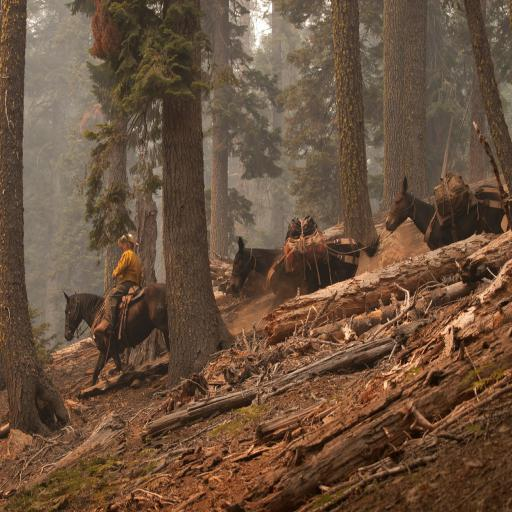horse: (62, 280, 168, 386)
